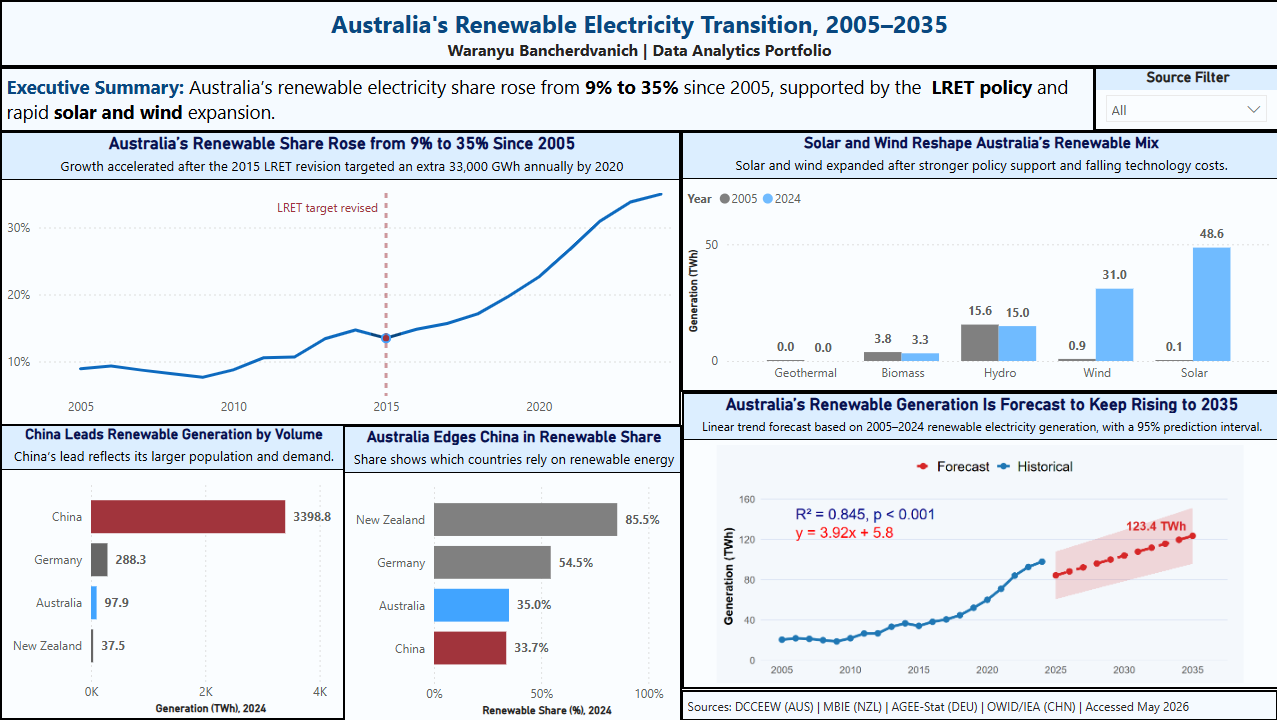

This screenshot's page, from the dashboard's own definition file:
{"tool":"powerbi","page":{"name":"Page 1","canvas":[1280,720],"ordinal":0},"visuals":[{"type":"lineChart","title":"Australia’s Renewable Share Rose from 9% to 35% Since 2005","fields":{"Category":["dim_Year.Year"],"Y":["_Measures.Renewable Share %"]},"box":[0,131.2,681.2,295],"z":0},{"type":"clusteredColumnChart","title":"Solar and Wind Reshape Australia’s Renewable Mix","fields":{"Category":["dim_EnergySource.Source_Group"],"Y":["_Measures.Renewable Generation TWh"],"Series":["dim_Year.Year"]},"box":[680.8,130.8,598.5,261.5],"z":1000},{"type":"clusteredBarChart","title":"China Leads Renewable Generation by Volume","fields":{"Category":["dim_Country.Country"],"Y":["_Measures.Renewable Generation TWh"]},"box":[0,424.3,344.8,295.2],"z":2000},{"type":"clusteredBarChart","title":"Australia Edges China in Renewable Share","fields":{"Category":["dim_Country.Country"],"Y":["_Measures.Renewable Share %"]},"box":[343.1,424.6,338.5,296.9],"z":3000},{"type":"scriptVisual","title":"Australia’s Renewable Generation Is Forecast to Keep Rising to 2035","fields":{"Values":["dim_Year.Year","_Measures.Renewable Generation TWh","dim_Country.Country"]},"box":[681.5,392.3,597.7,296.9],"z":4000},{"type":"textbox","box":[0,66.7,1095,65],"z":5000},{"type":"textbox","box":[0,0,1280,67.4],"z":6000},{"type":"slicer","title":"Source Filter","fields":{"Values":["dim_EnergySource.Source_Group"]},"box":[1093.8,66.9,185.4,63.8],"z":7000},{"type":"textbox","box":[680.7,689.5,597.6,31.8],"z":8000}]}

Visuals, with their boxes in screenshot pixels (x1, y1, x2, y2), scaled from the page's 1280x720 canvas onto the 1277x720 screenshot:
"Australia’s Renewable Share Rose from 9% to 35% Since 2005" lineChart: [0,131,680,426]
"Solar and Wind Reshape Australia’s Renewable Mix" clusteredColumnChart: [679,131,1276,392]
"China Leads Renewable Generation by Volume" clusteredBarChart: [0,424,344,719]
"Australia Edges China in Renewable Share" clusteredBarChart: [342,425,680,719]
"Australia’s Renewable Generation Is Forecast to Keep Rising to 2035" scriptVisual: [680,392,1276,689]
textbox: [0,67,1092,132]
textbox: [0,0,1276,67]
"Source Filter" slicer: [1091,67,1276,131]
textbox: [679,690,1275,719]
